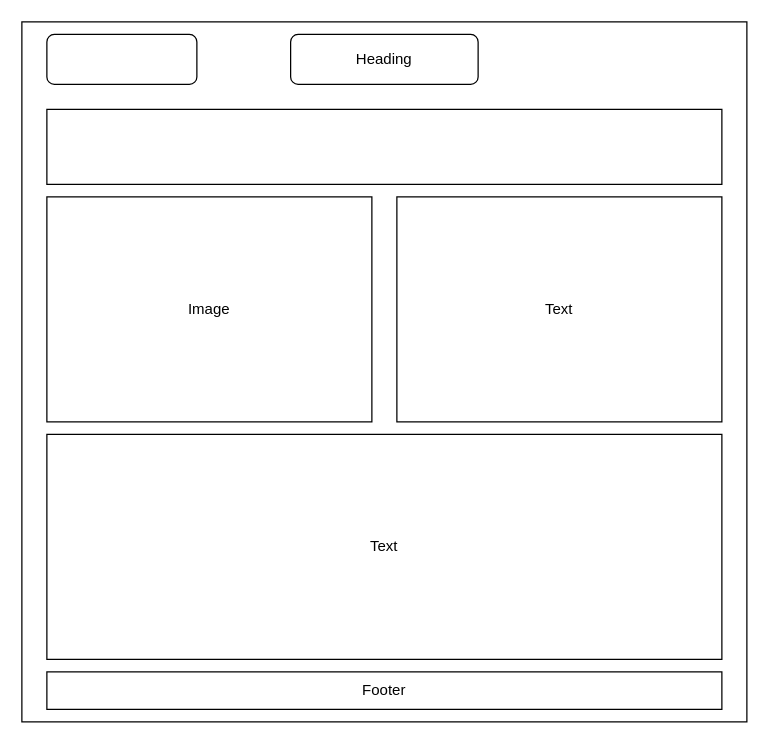
The diagram is 769 pixels wide and 744 high, and some of its shapes have lost their labels. The centre of each missing label's shape, as x and y in pixels:
"Logo" belongs at point 121,58.
"Navigation" belongs at point 384,146.
